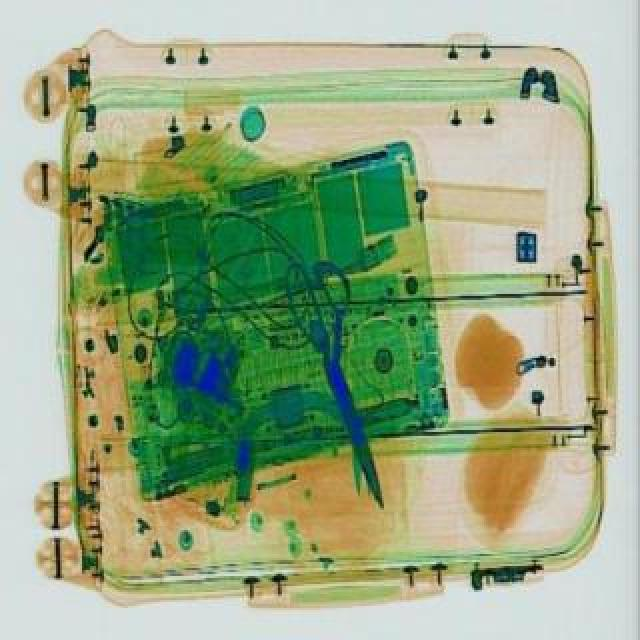pliers: (280, 250, 416, 512)
